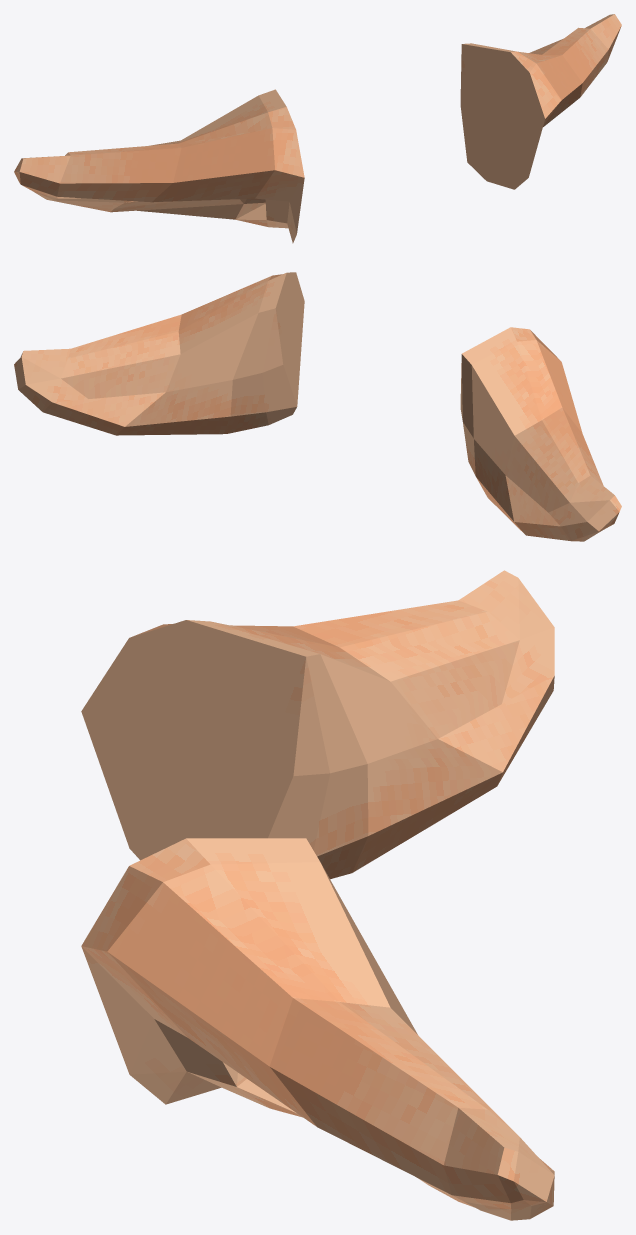
Rendered from YingletEars.001.fbx.
3 views of the same model, one above another, from view 1: azimuth 30°, elevation 25°; view 2: azimuth 150°, elevation 25°; view 3: azimuth 270°, elevation 25° (orthographic). The views are drawn at different scales.
Parts seen in each view (by area): view 1: YingletEars.001; view 2: YingletEars.001; view 3: YingletEars.001.
Boxes of the visible parts, box(x1,y1,x2,y2) form: YingletEars.001: box(14, 14, 621, 243); YingletEars.001: box(14, 272, 621, 541); YingletEars.001: box(81, 570, 554, 1220).
Size of the model in its own units: 0.3564 by 0.0768 by 0.1207.
